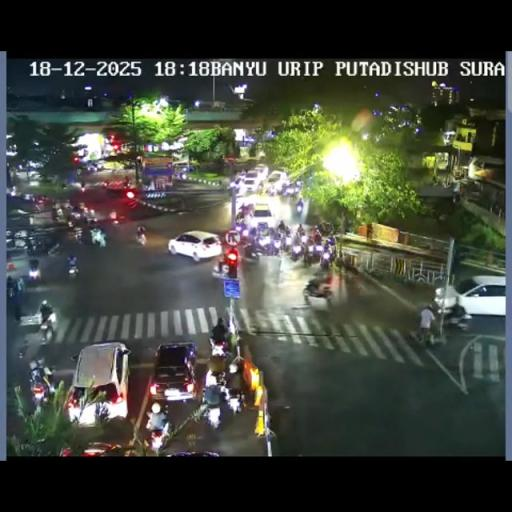Car: (66, 342, 130, 424), (436, 275, 505, 320), (148, 342, 198, 404), (166, 230, 222, 262), (244, 202, 276, 232), (234, 168, 266, 194), (266, 169, 294, 195), (80, 442, 126, 455), (105, 178, 133, 194), (173, 162, 194, 178)
Motorcycle: (242, 219, 335, 263), (29, 362, 57, 406), (144, 416, 171, 453), (206, 340, 230, 381), (200, 385, 223, 426), (6, 275, 25, 319), (417, 303, 436, 343), (225, 382, 244, 416), (38, 310, 56, 342), (338, 254, 360, 278), (211, 260, 231, 280), (262, 235, 281, 256), (320, 242, 336, 266), (243, 238, 259, 260), (26, 237, 46, 254), (304, 246, 322, 264), (90, 227, 106, 247), (289, 242, 304, 262), (66, 258, 79, 281), (28, 264, 42, 285), (317, 220, 334, 236), (70, 225, 84, 243), (318, 279, 332, 296), (234, 219, 248, 235), (68, 207, 82, 222), (302, 286, 312, 306), (83, 214, 97, 228), (32, 198, 44, 212), (136, 230, 146, 246), (51, 207, 61, 222), (109, 210, 119, 225), (229, 178, 239, 192), (452, 190, 462, 204), (248, 225, 258, 238), (276, 220, 286, 233), (22, 192, 34, 202), (86, 162, 96, 172), (283, 225, 291, 237), (297, 224, 305, 236), (295, 178, 303, 188), (300, 233, 307, 243), (296, 201, 302, 212), (10, 187, 16, 197), (79, 185, 86, 193)
